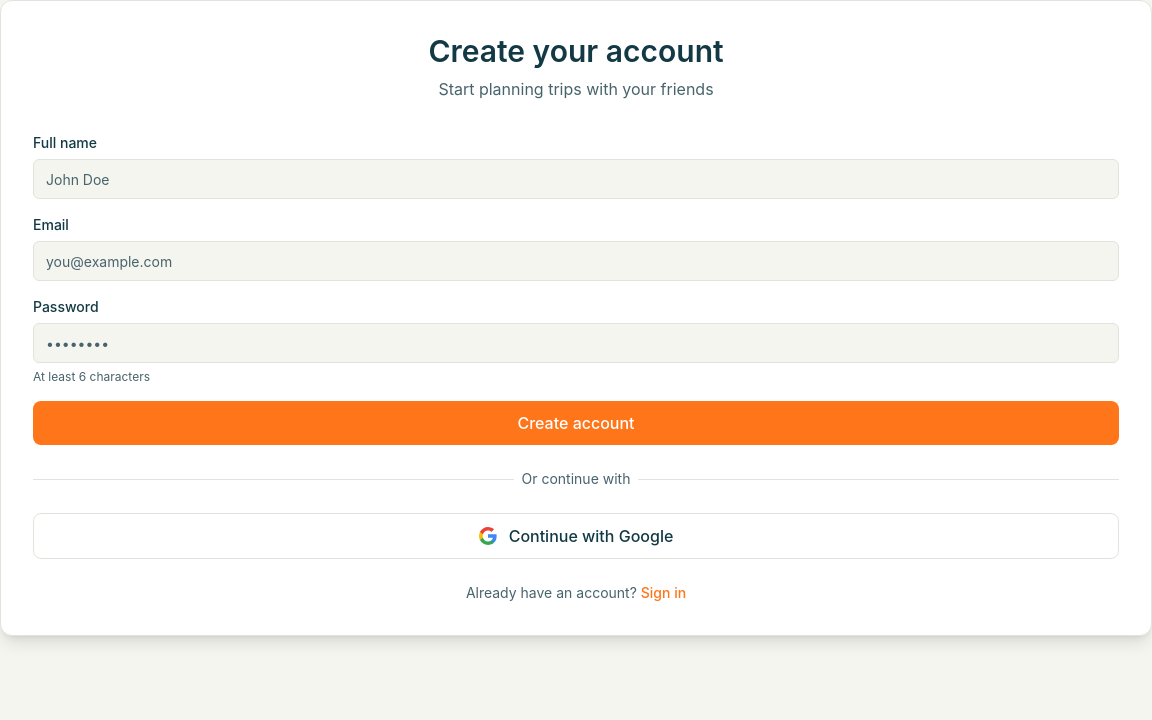
SignupPage › should validate password length
This screenshot has width=1152, height=720.
Type "Test User" into the field labelled "Full name".
click(576, 179); type("Test User")  # box [33,159,1119,199]
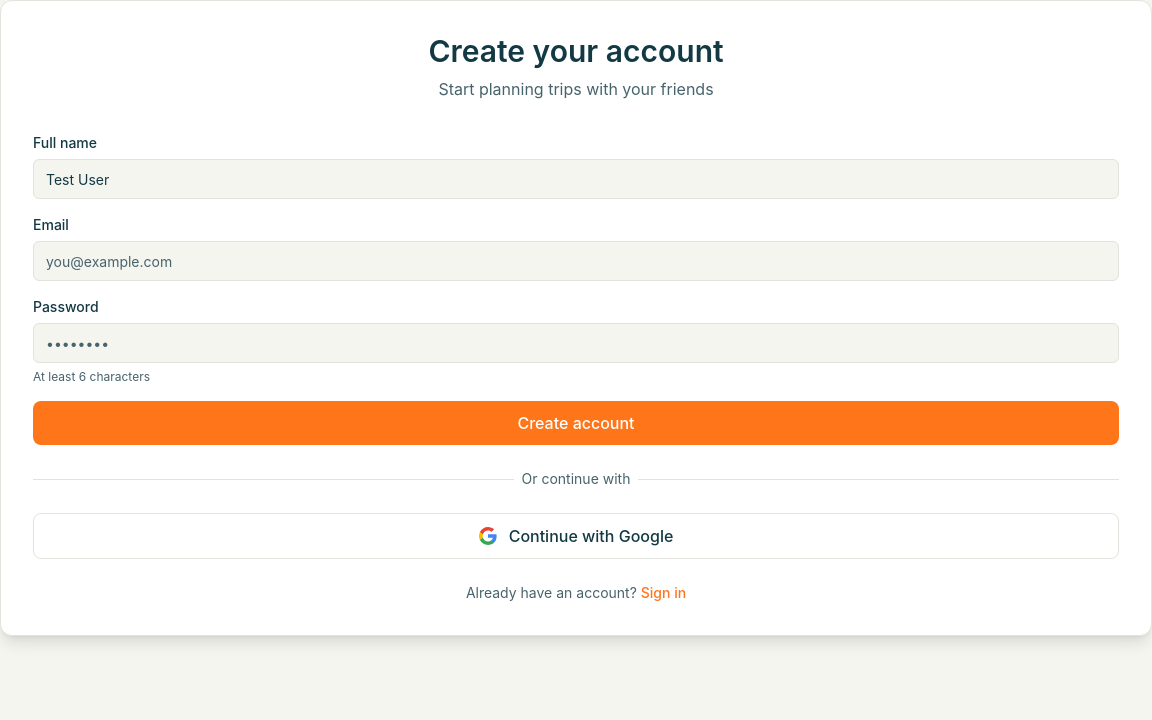
Type "test@example.com" into the field labelled "Email".
click(576, 261); type("test@example.com")  # box [33,241,1119,281]
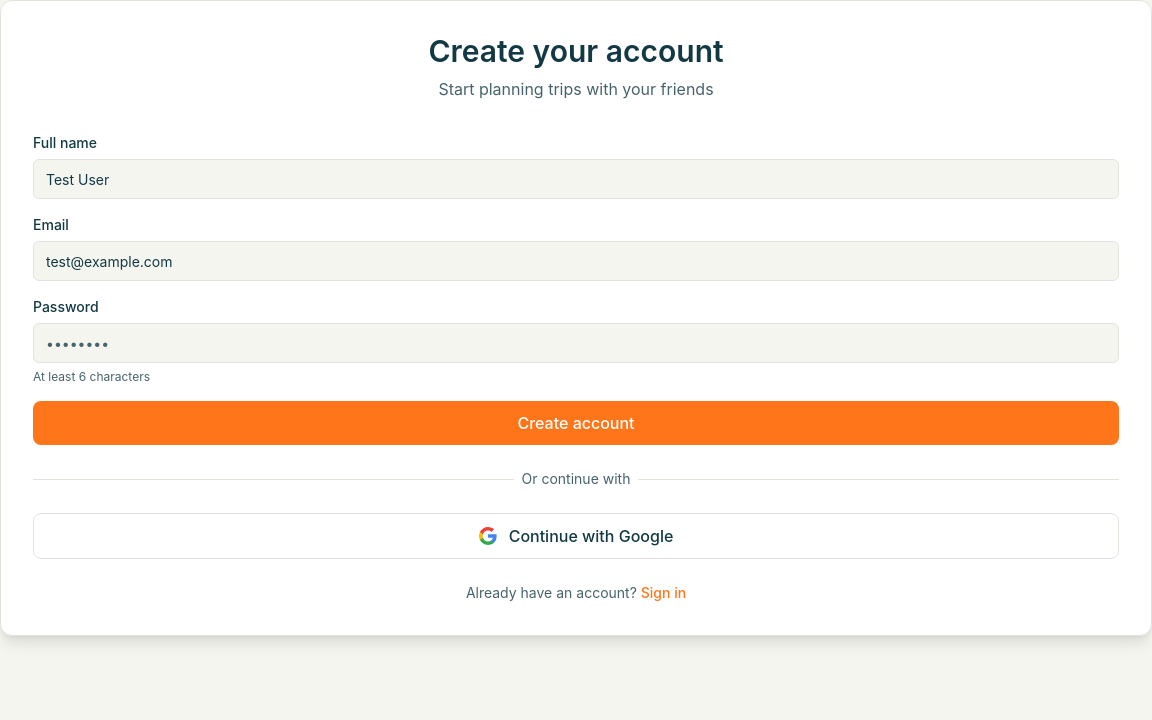
Type "12345" into the password field labelled "Password".
click(576, 343); type("12345")  # box [33,323,1119,363]
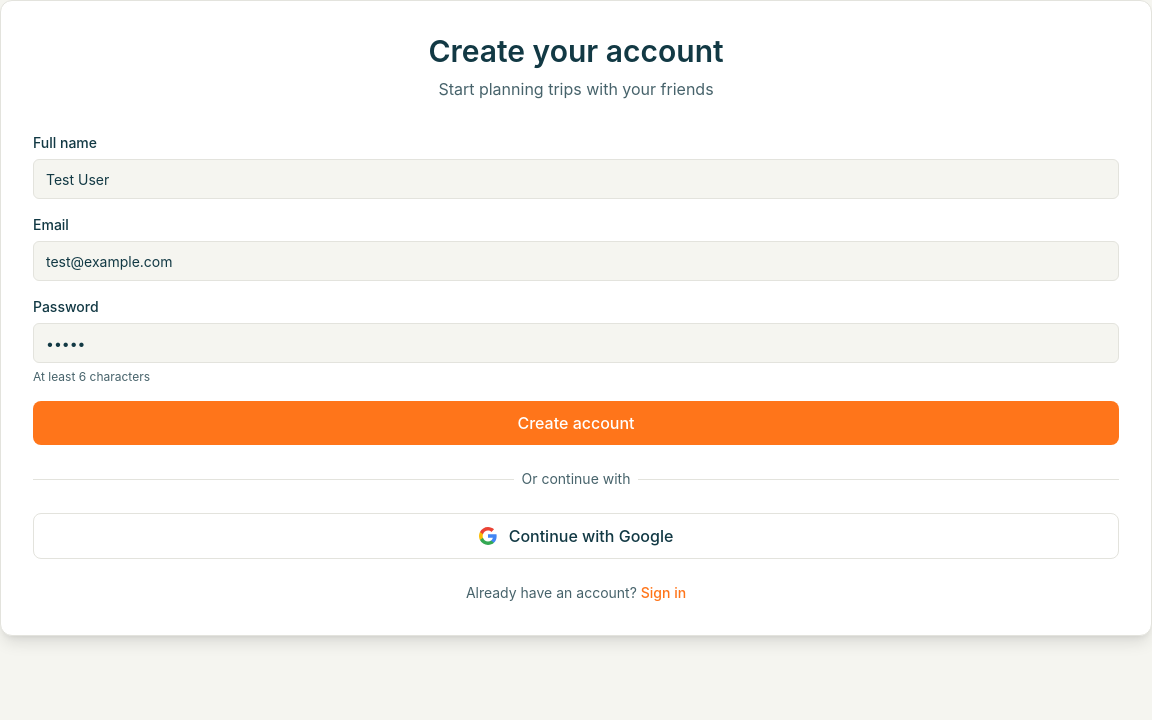
Click the button "Create account".
click(576, 423)  # box [33,401,1119,445]
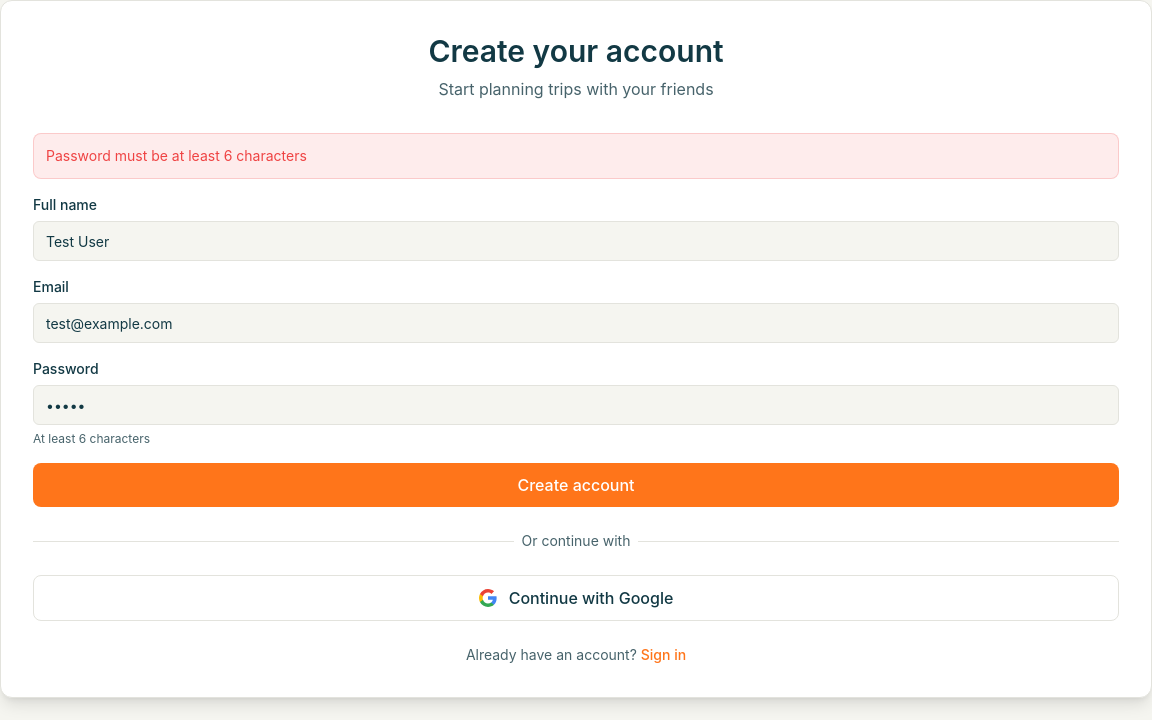
Result: the text "Password must be at least 6 characters" is shown at [33,133,1119,179]
